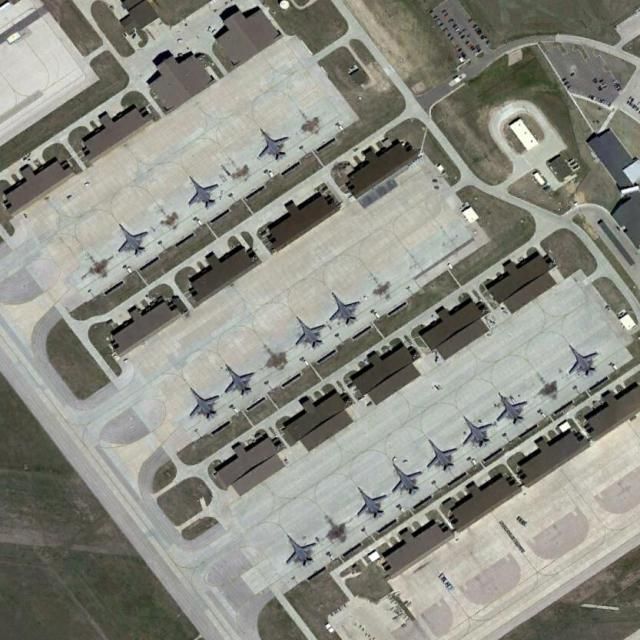fighter jet: (562, 342, 597, 380), (184, 384, 219, 421), (424, 436, 457, 474), (351, 484, 386, 519), (252, 126, 288, 160), (390, 459, 420, 499), (224, 364, 258, 399), (292, 314, 325, 349), (285, 534, 317, 570), (328, 290, 358, 327), (114, 221, 146, 255), (459, 413, 490, 448), (497, 390, 526, 426), (186, 175, 217, 208)
